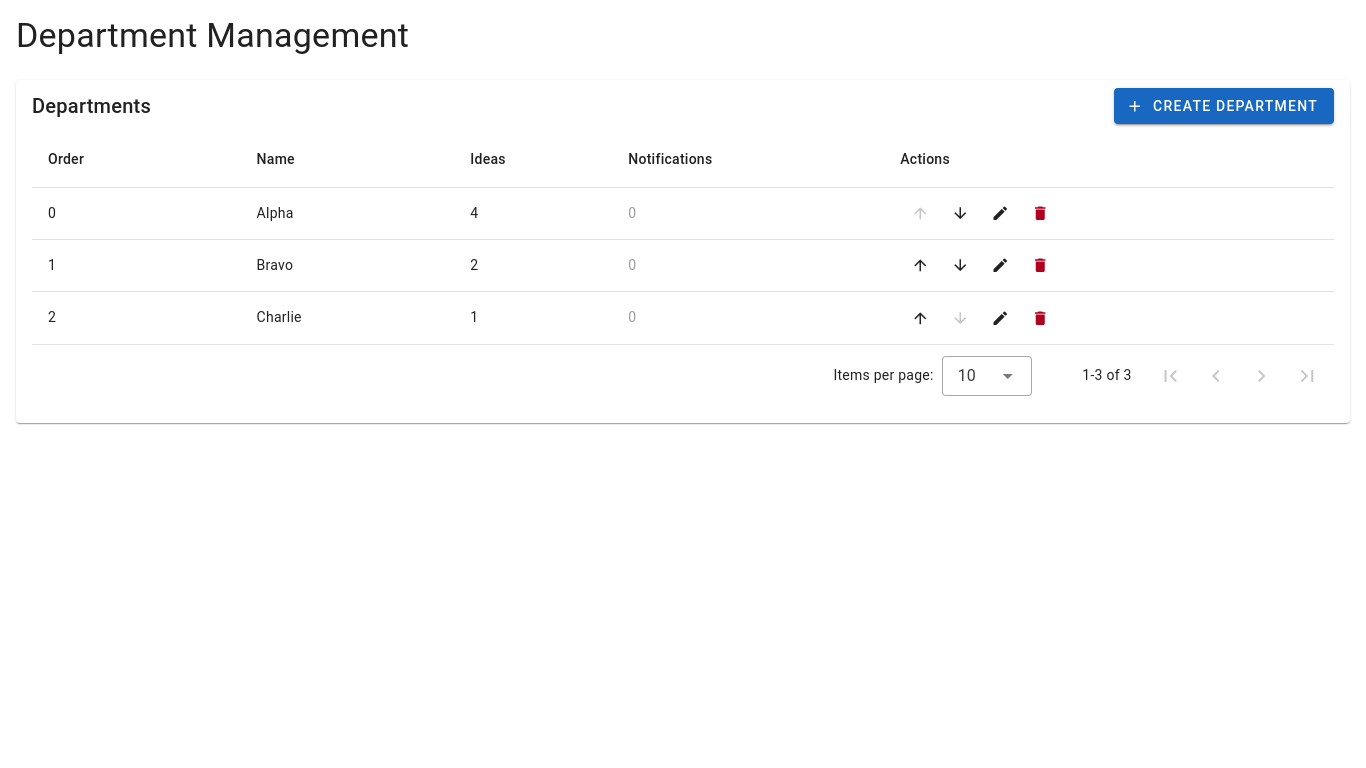
it: DepartmentsPage › blocks creation with a required error when the name is empty
Click the button "Create Department" at point(1224, 106), box x1=1114 y1=88 x2=1334 y2=124
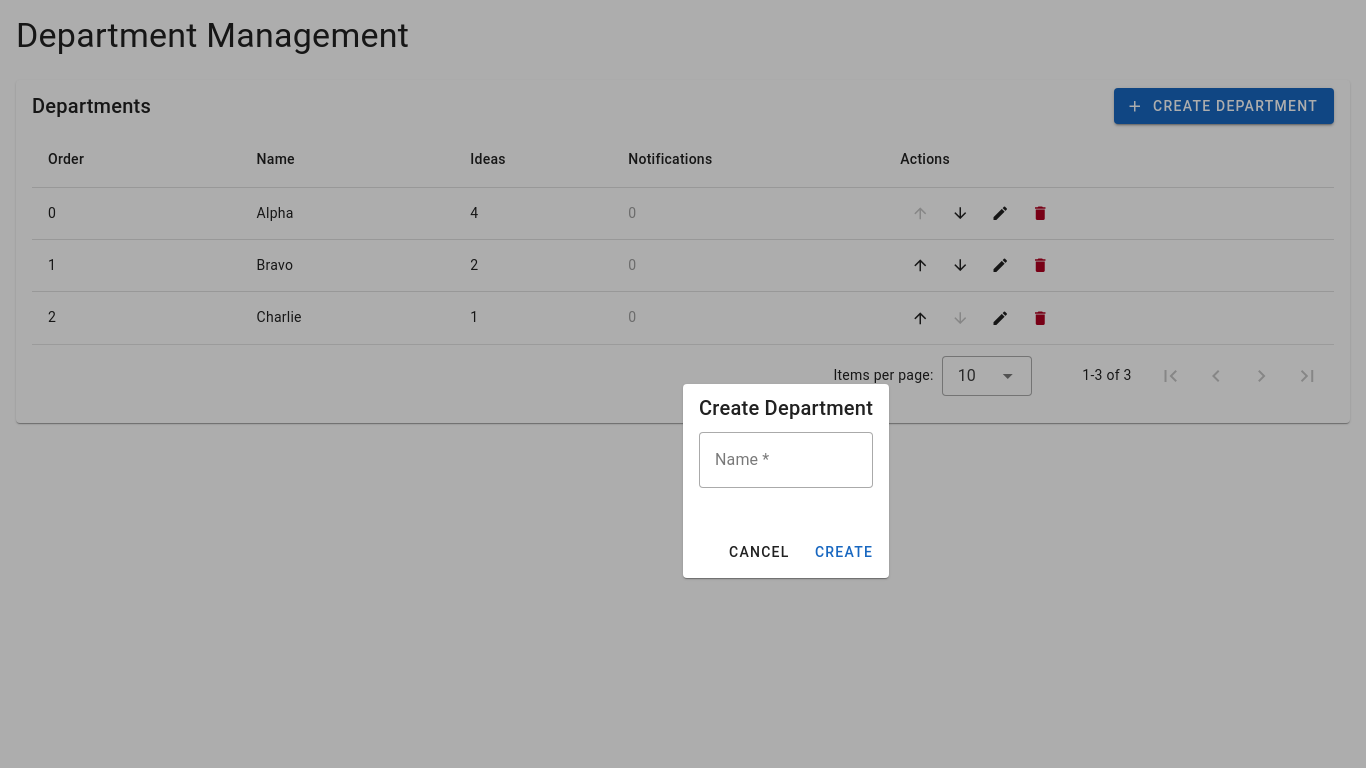
Click the button "Create" at point(843, 552), box x1=806 y1=534 x2=881 y2=570
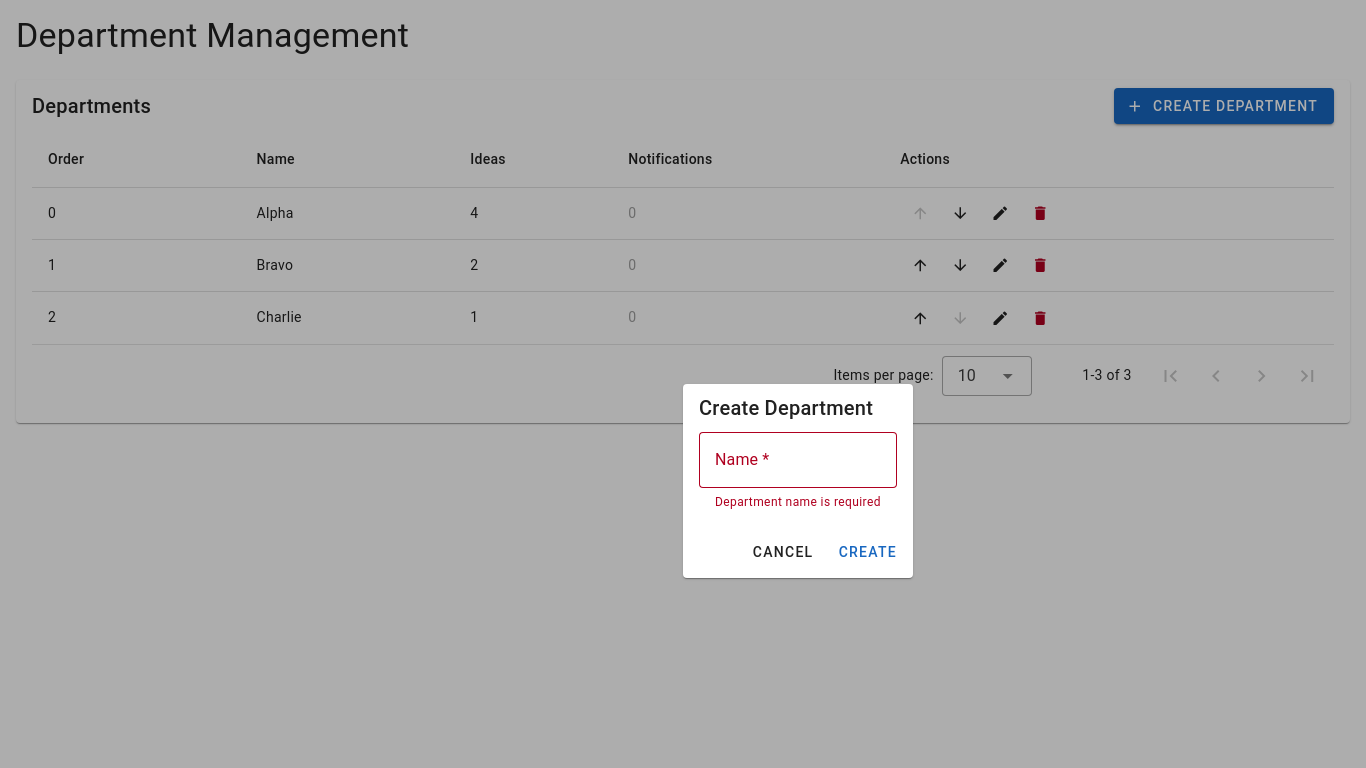
Expected: the text "Department name is required" is shown, x1=715 y1=496 x2=881 y2=508
